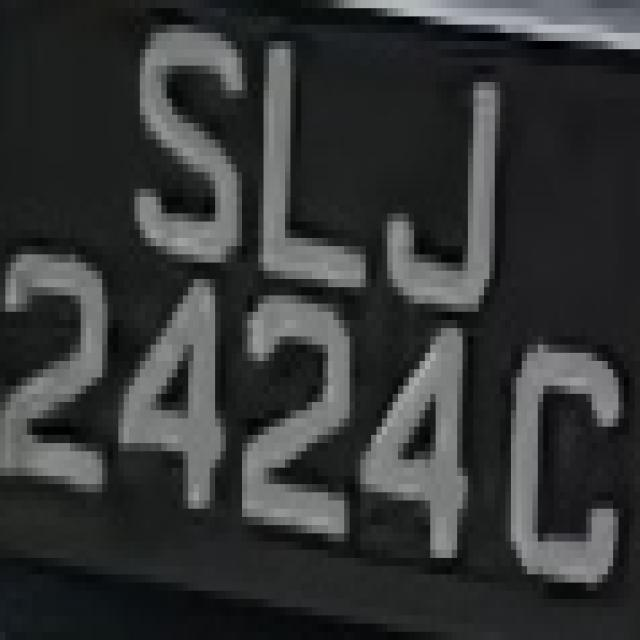2: (237, 254, 366, 591), (5, 222, 119, 534)
4: (102, 230, 242, 533), (355, 287, 479, 566)
C: (494, 320, 634, 607)
J: (371, 58, 516, 336)
L: (242, 17, 376, 296)
S: (102, 0, 248, 287)
